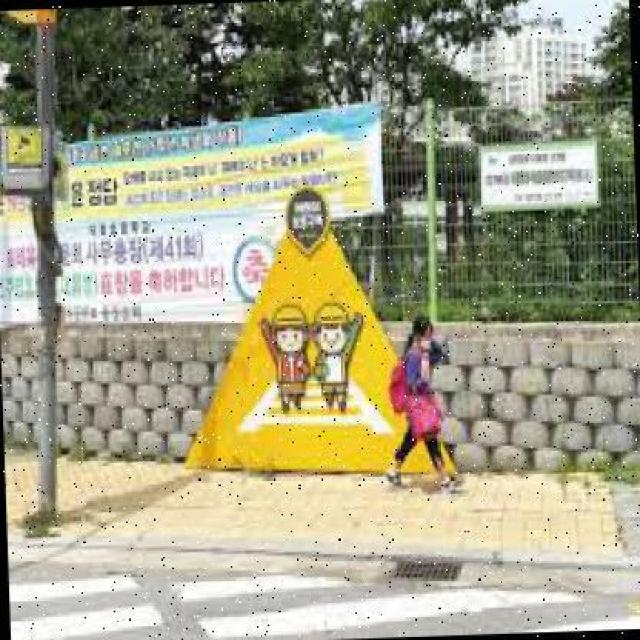Person: (384, 318, 462, 499)
